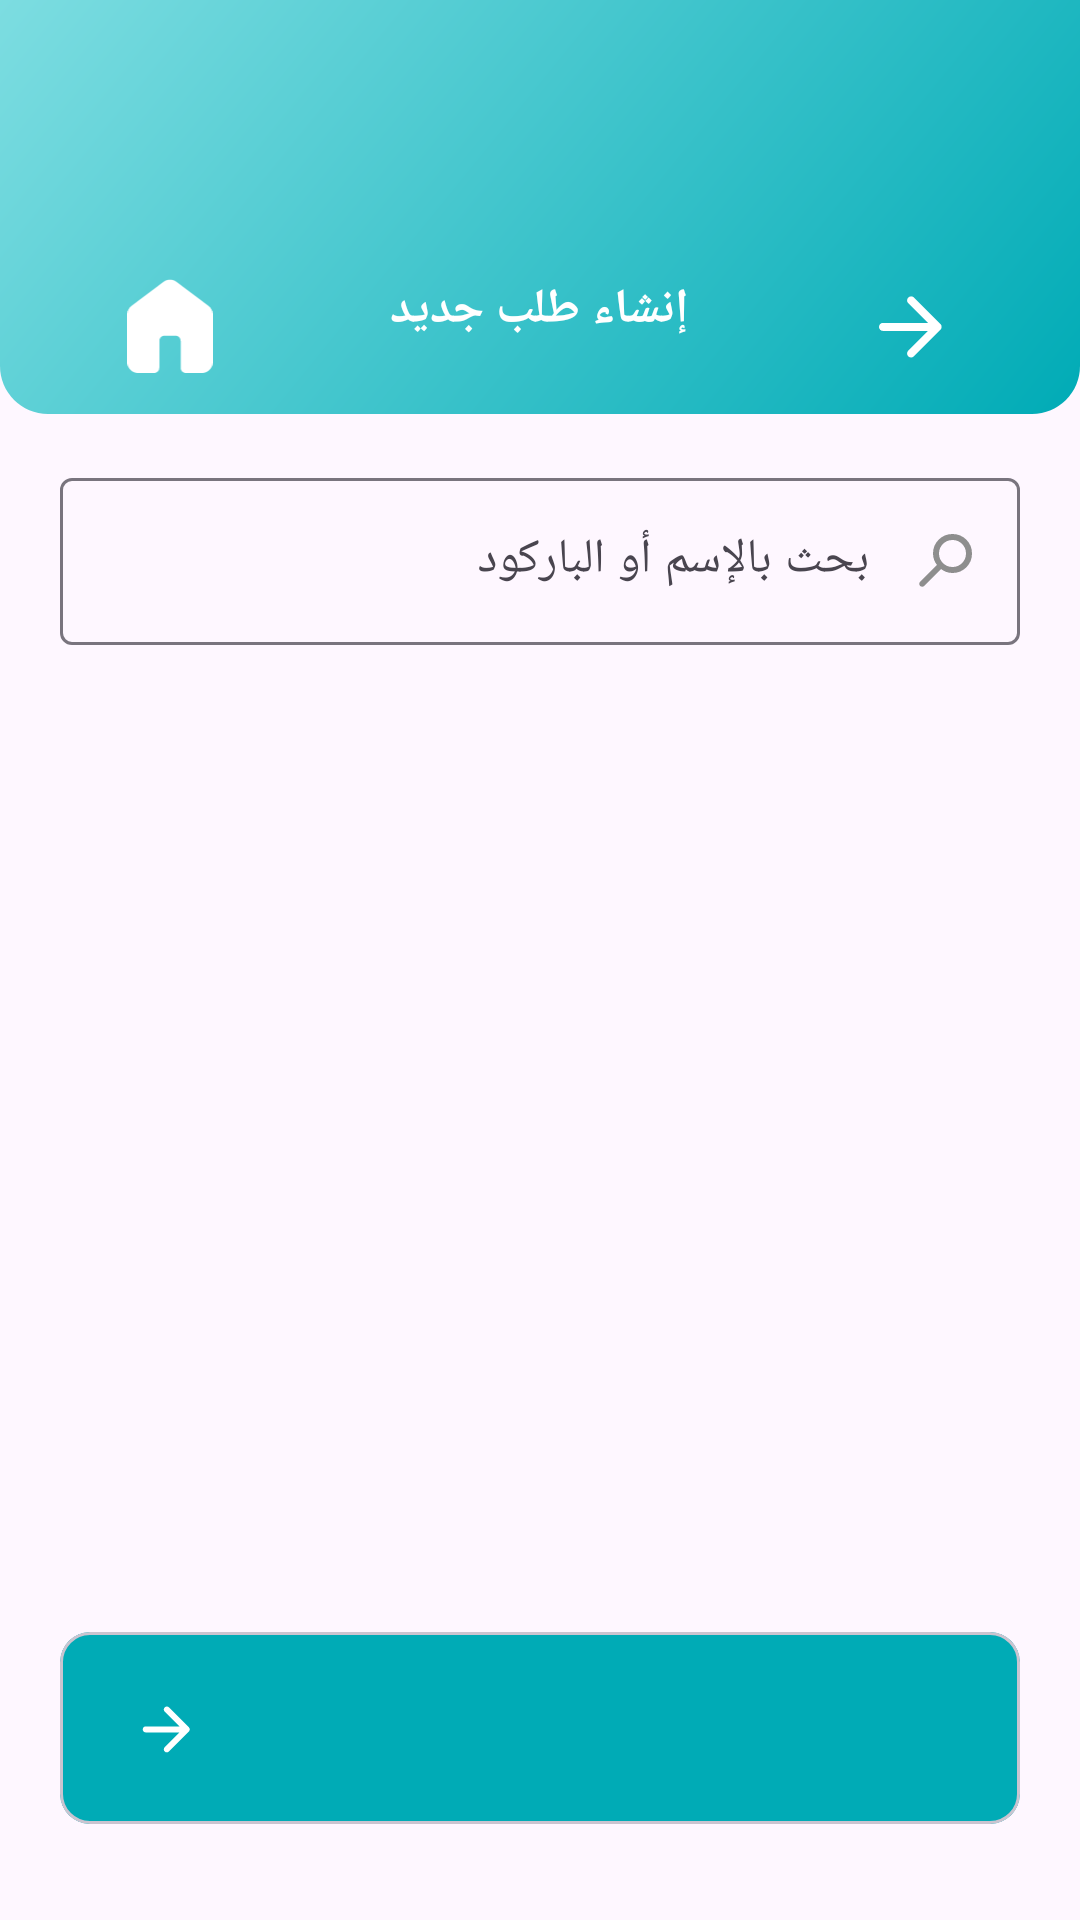

Where icons sit on this 1080*1920 app screen, as (x1, y1, x2, y2):
home: (127, 279, 213, 373)
